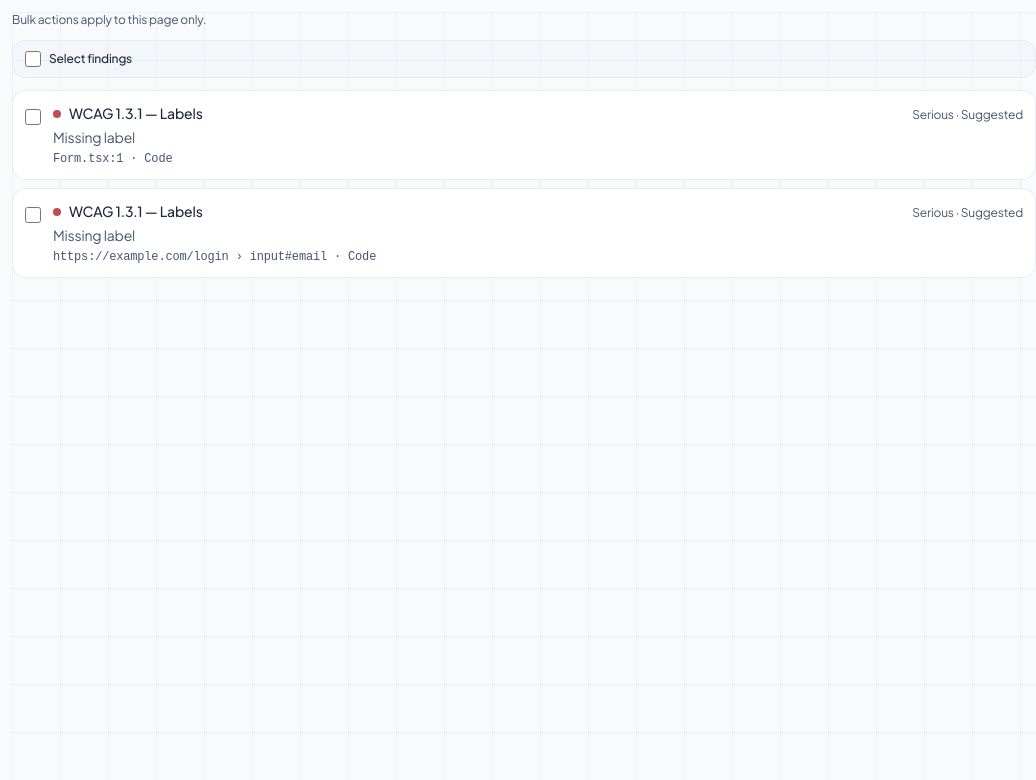
FindingsBulkList bulk approve › offers bulk approve only for runtime findings with suggested guidance
Click the checkbox named "Select all findings on this page". click: (33, 59)
box: [25,51,41,67]
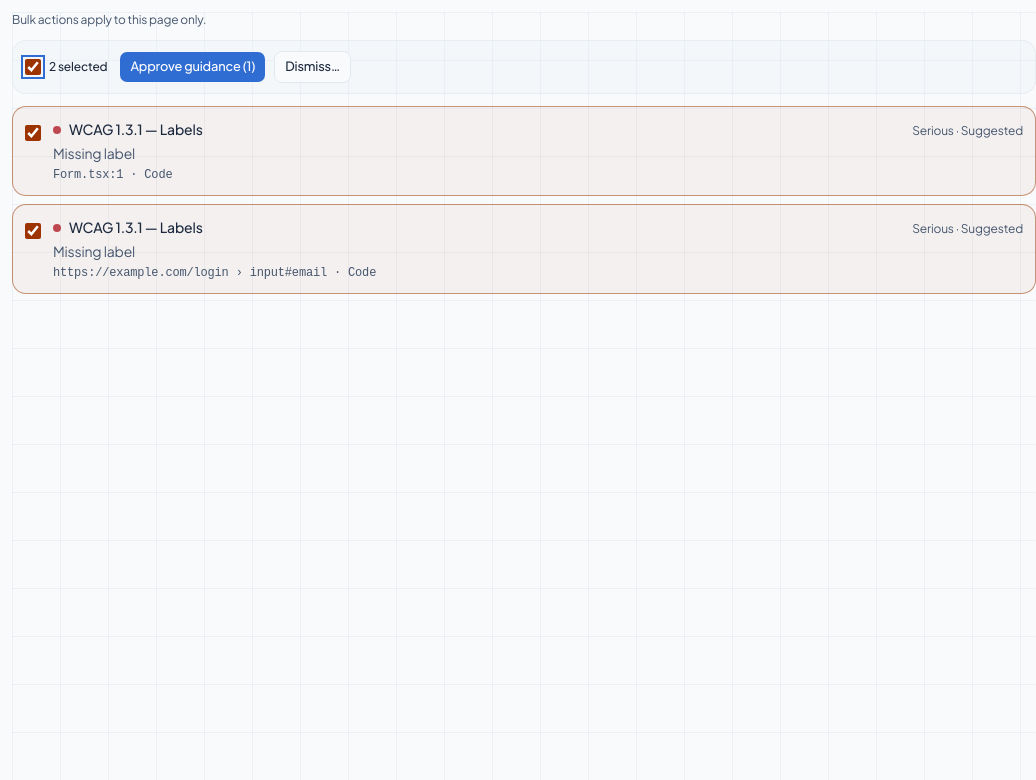
Expected: the button "Approve guidance (1)" is shown, [119,51,266,83]
